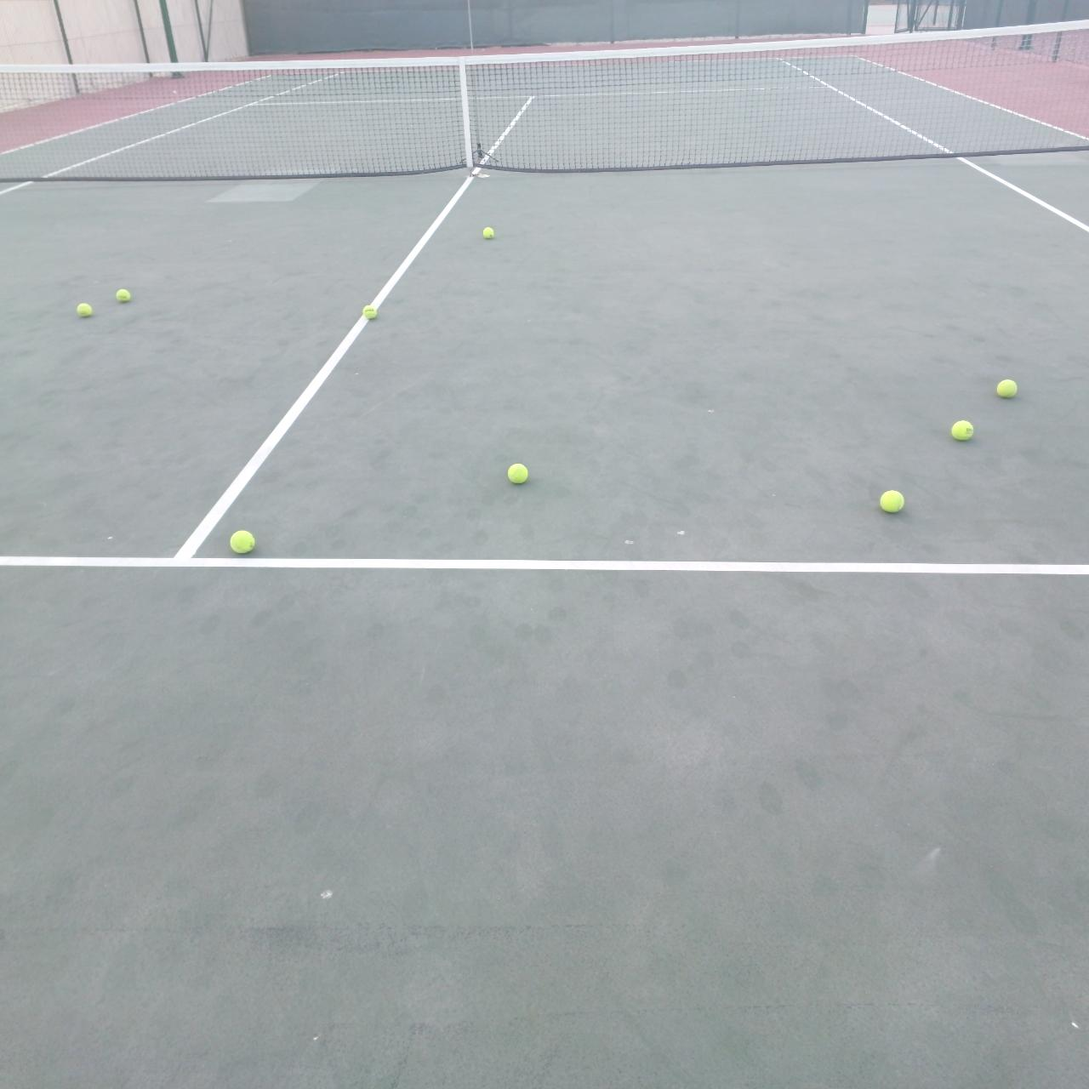tennis-ball: (228, 527, 255, 554), (878, 487, 904, 513), (949, 418, 974, 441), (505, 460, 528, 484), (995, 376, 1018, 398), (75, 300, 93, 317), (361, 303, 378, 319), (114, 287, 131, 303), (481, 225, 495, 239)
